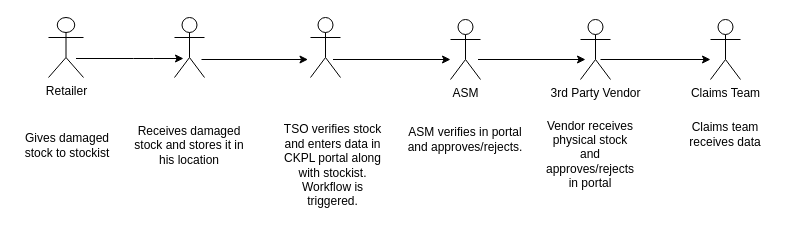
The diagram is 787 pixels wide and 226 high, and some of its shapes have lost their labels. Here are the shapes that lost their labels. From the top down, the box of each, then its label:
(174, 16, 204, 78): Stockists
(310, 16, 340, 78): TSO
